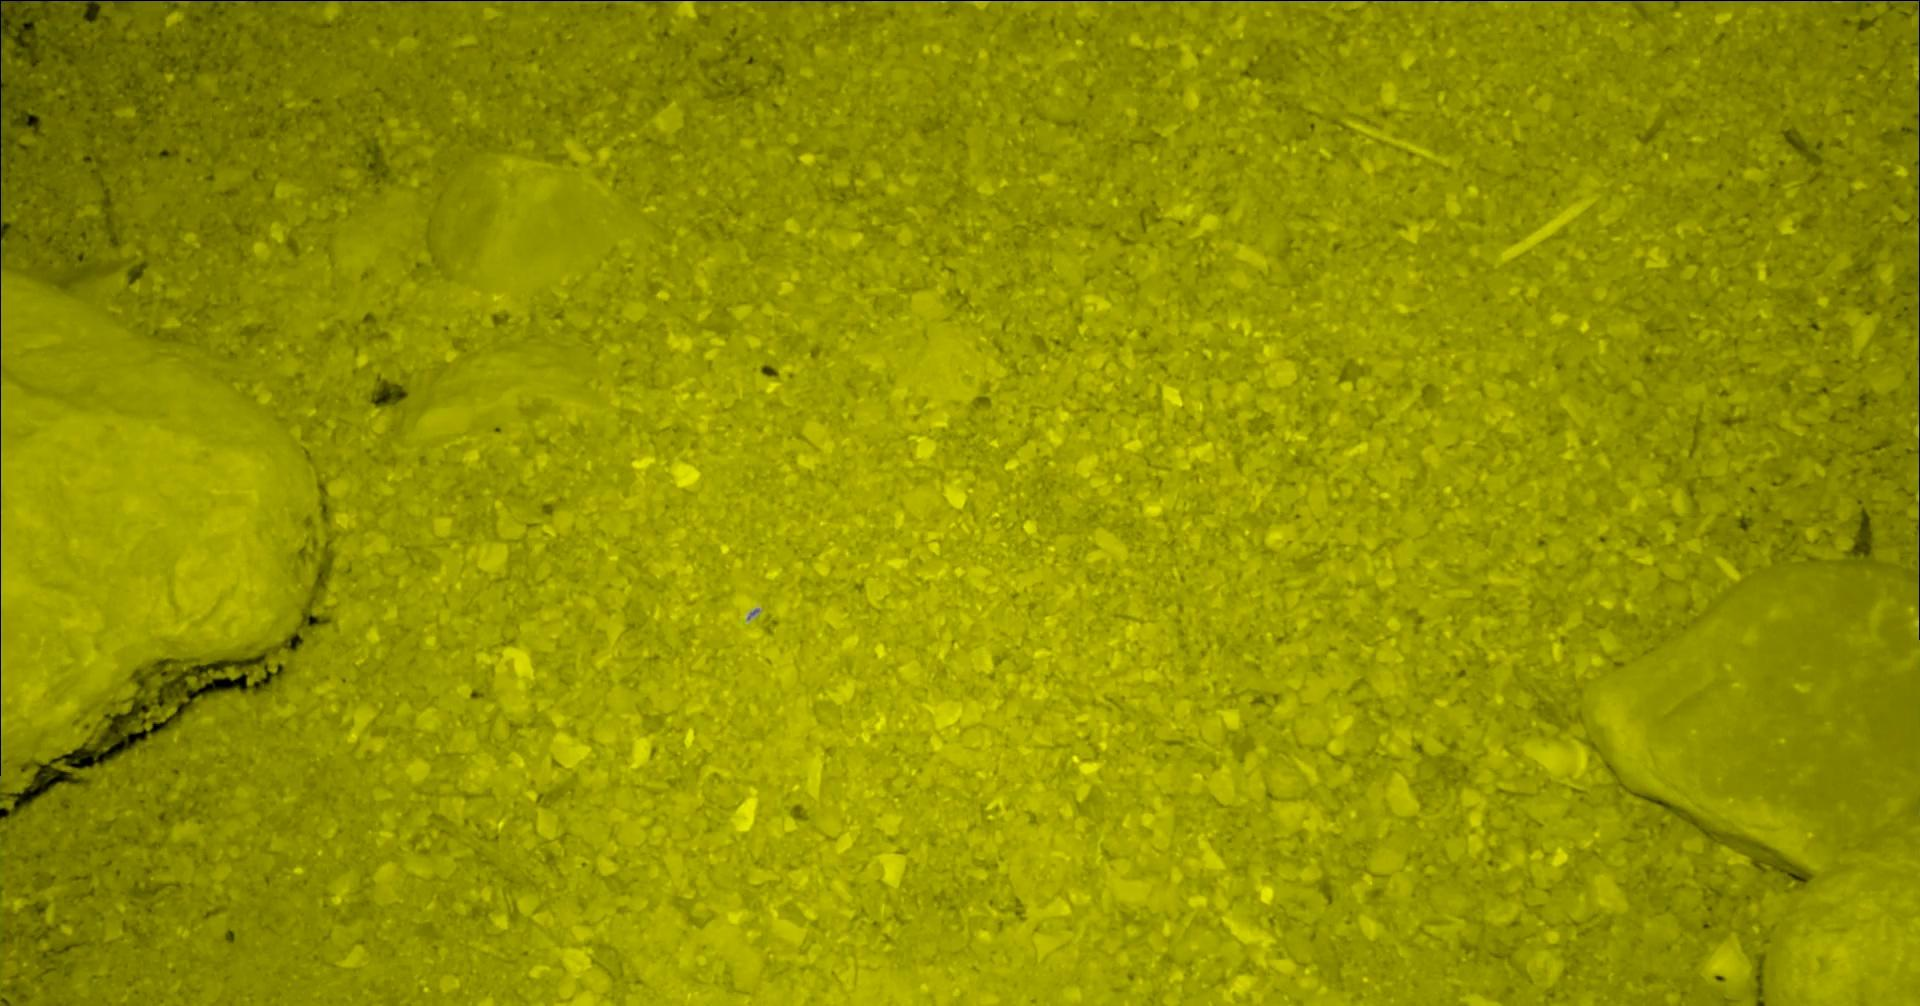ant: (1, 0, 140, 9), (1, 90, 3, 180), (1, 29, 3, 80)
